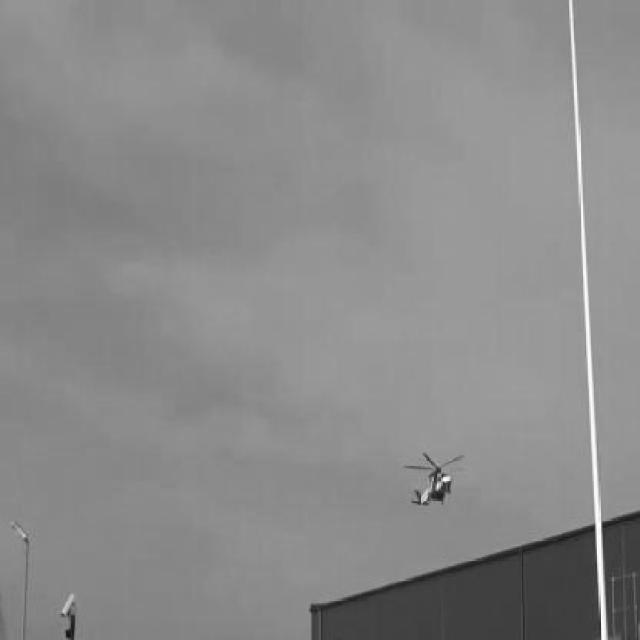helikopter: (398, 444, 468, 520)
